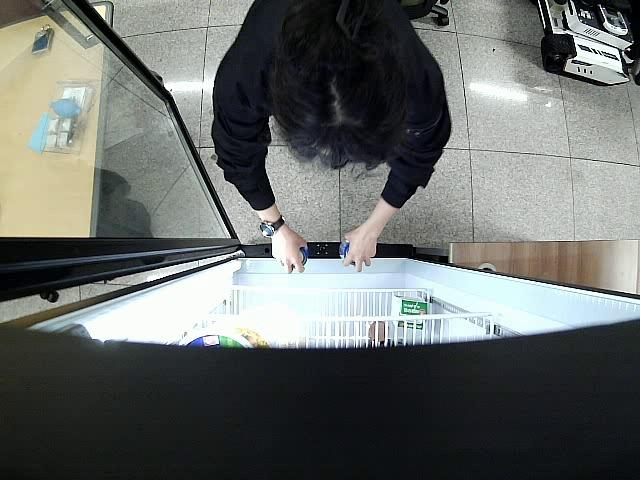00_hand: (342, 226, 378, 273), (271, 230, 309, 273)
13_pocariSweat: (339, 238, 349, 259)
